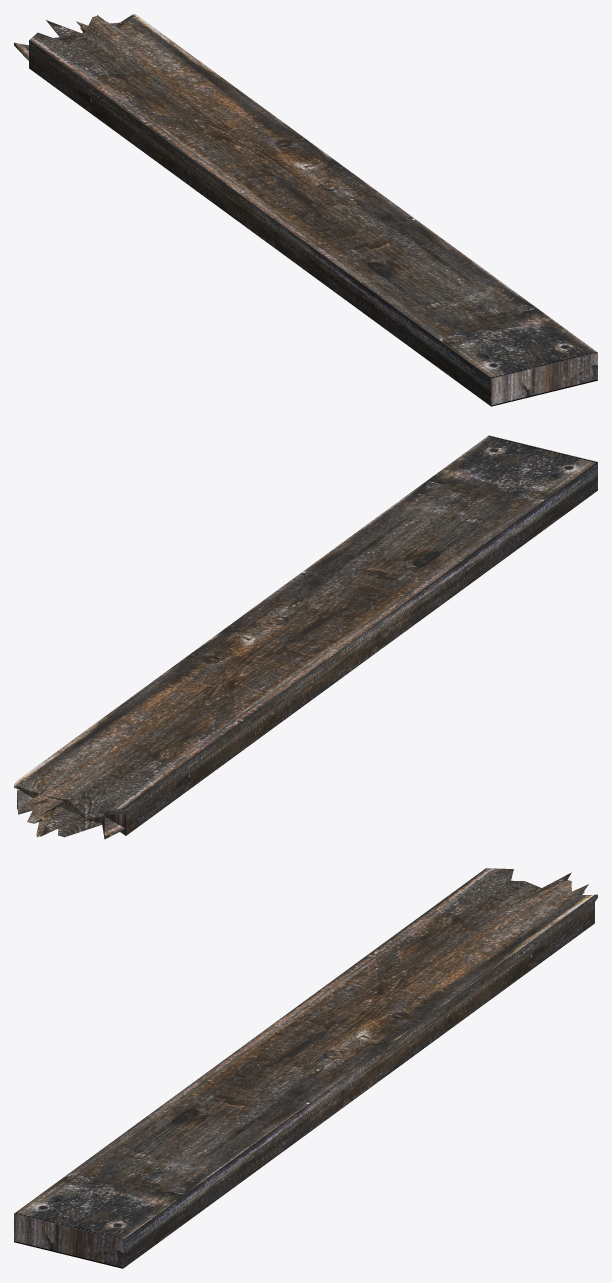
Rendered from Plank - 3-4.FBX.
The picture shows the model from 3 angles, top to bottom: view 1: azimuth 30°, elevation 25°; view 2: azimuth 150°, elevation 25°; view 3: azimuth 330°, elevation 25°; orthographic projection. The views are drawn at different scales.
Parts seen in each view (by area): view 1: Plank - 3/4; view 2: Plank - 3/4; view 3: Plank - 3/4.
Boxes of the visible parts, x1=… form: Plank - 3/4: x1=14, y1=14, x2=597, y2=406; Plank - 3/4: x1=14, y1=435, x2=597, y2=839; Plank - 3/4: x1=14, y1=868, x2=597, y2=1268.
Bounding box in the file's own units: 2 × 0.5008 × 16.1.
